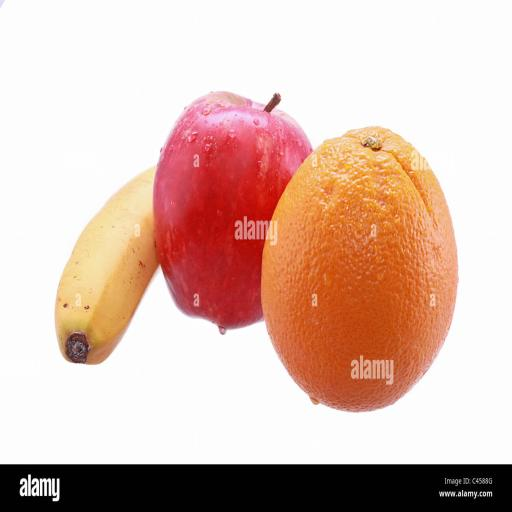apple: (154, 92, 312, 333)
banana: (56, 168, 158, 364)
orange: (262, 127, 458, 411)
